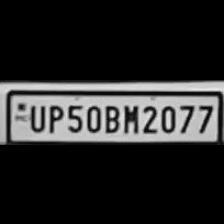0: (82, 101, 102, 131), (157, 102, 175, 132)
2: (138, 102, 158, 132)
5: (63, 100, 83, 132)
7: (194, 100, 214, 132), (176, 100, 194, 132)
B: (101, 102, 119, 132)
M: (120, 100, 138, 134)
P: (45, 100, 63, 132)
U: (26, 100, 44, 132)
